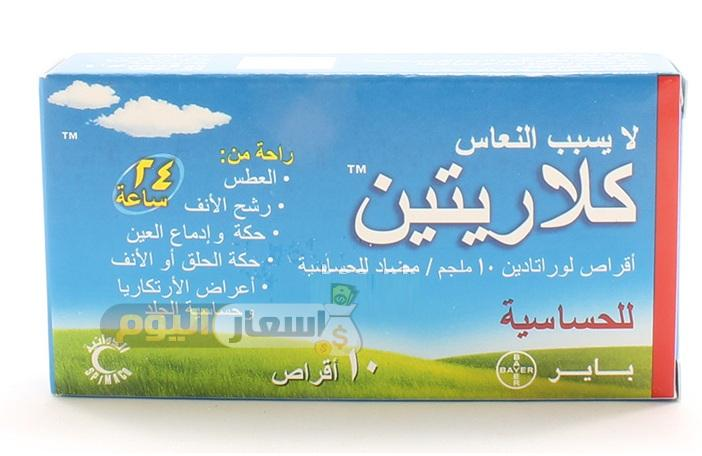Medicine: (32, 64, 685, 410)
